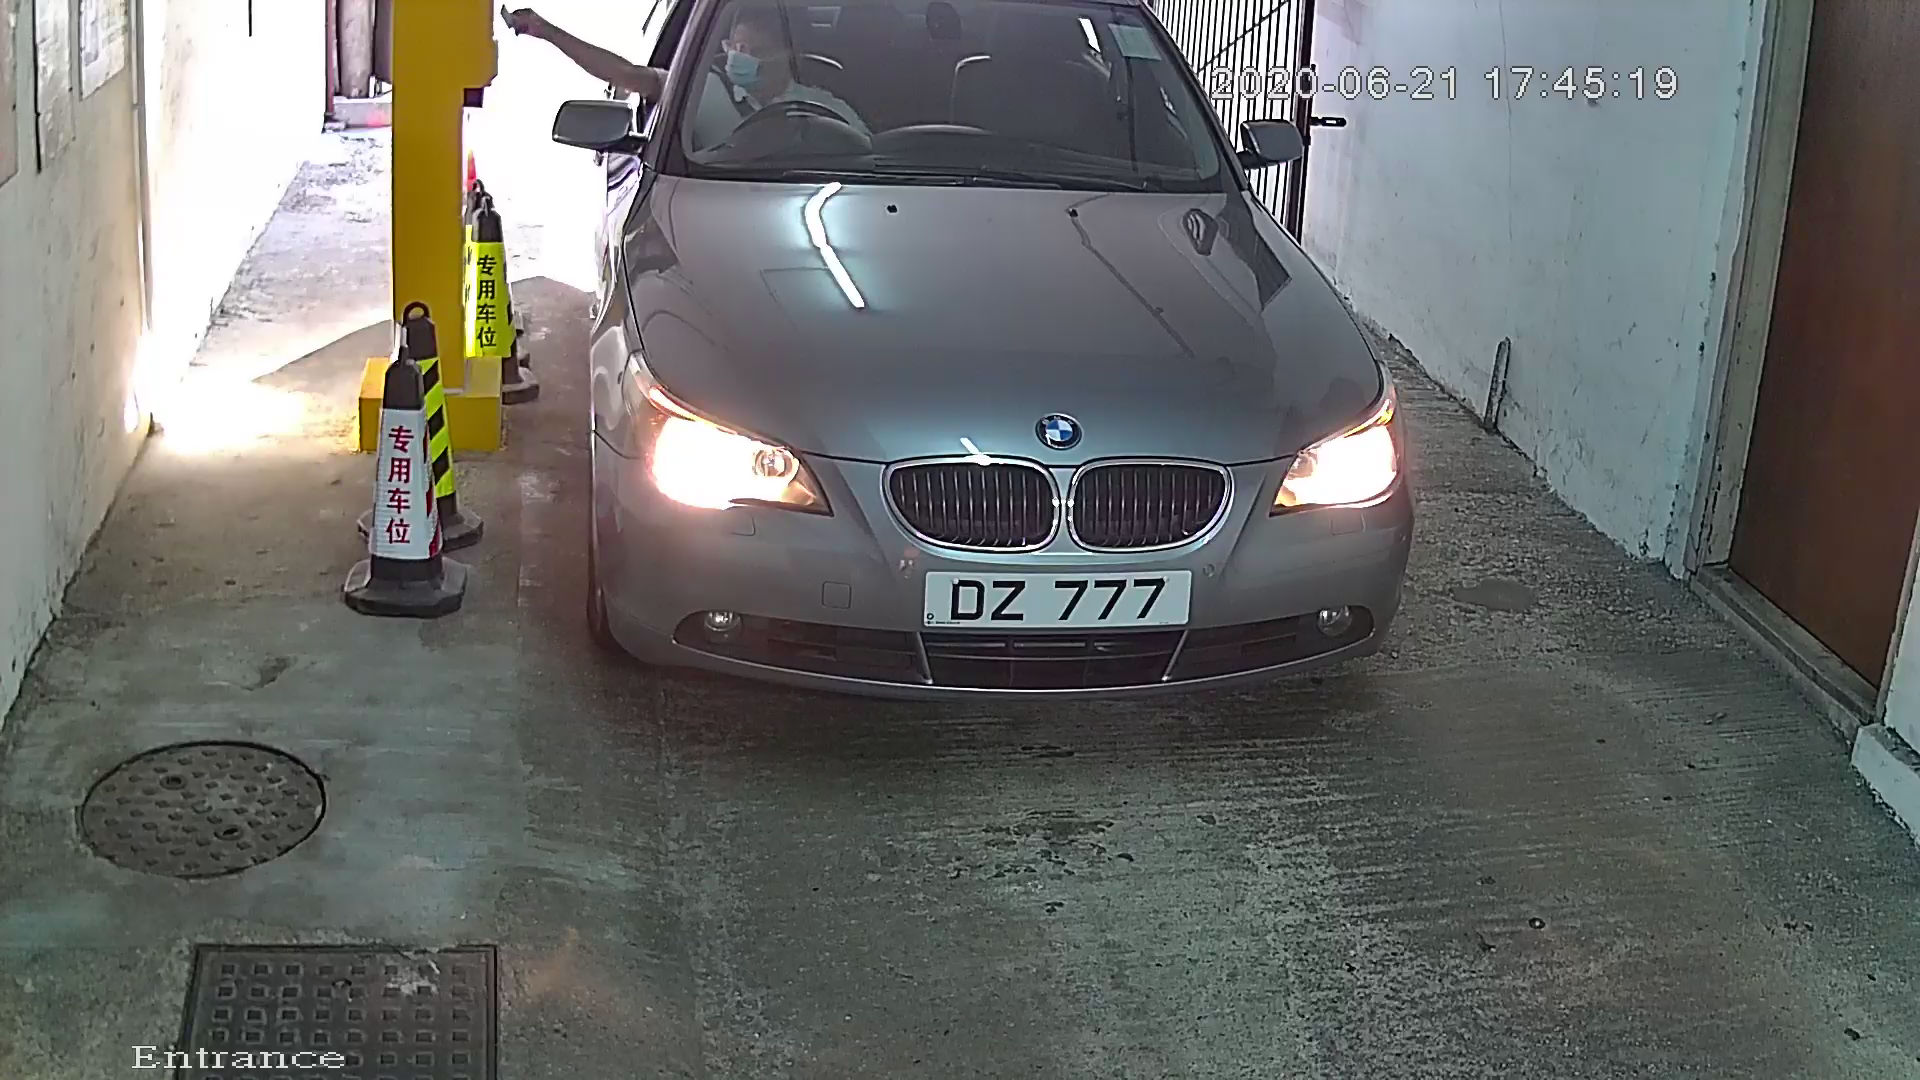privatecar: (553, 1, 1486, 775)
